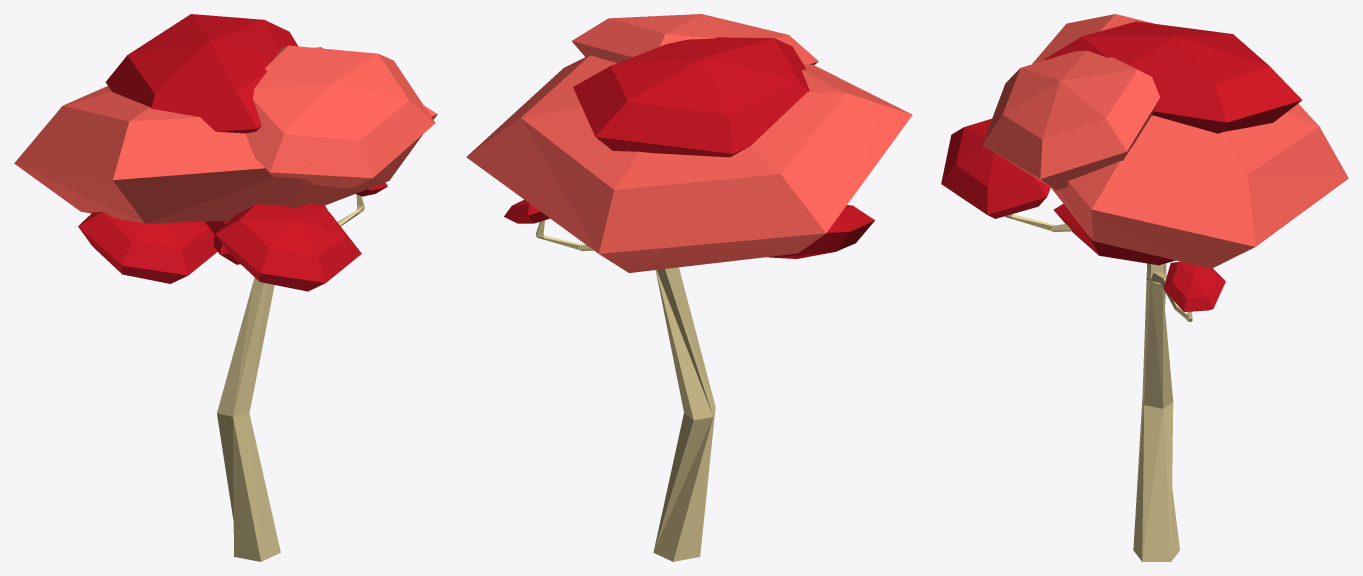
File: ColorfulTree.fbx
3 renders of one model, left to right at view 1: azimuth 30°, elevation 25°; view 2: azimuth 150°, elevation 25°; view 3: azimuth 270°, elevation 25°, orthographic. The views are drawn at different scales.
Parts seen in each view (by area): view 1: Tree1_R_Rot270; view 2: Tree1_R_Rot270; view 3: Tree1_R_Rot270.
Boxes of the visible parts, left/top/right/bottom form: Tree1_R_Rot270: left=14, top=14, right=437, bottom=561; Tree1_R_Rot270: left=466, top=14, right=912, bottom=561; Tree1_R_Rot270: left=941, top=14, right=1348, bottom=561.
Bounding box in the file's own units: 447 × 612 × 453.
